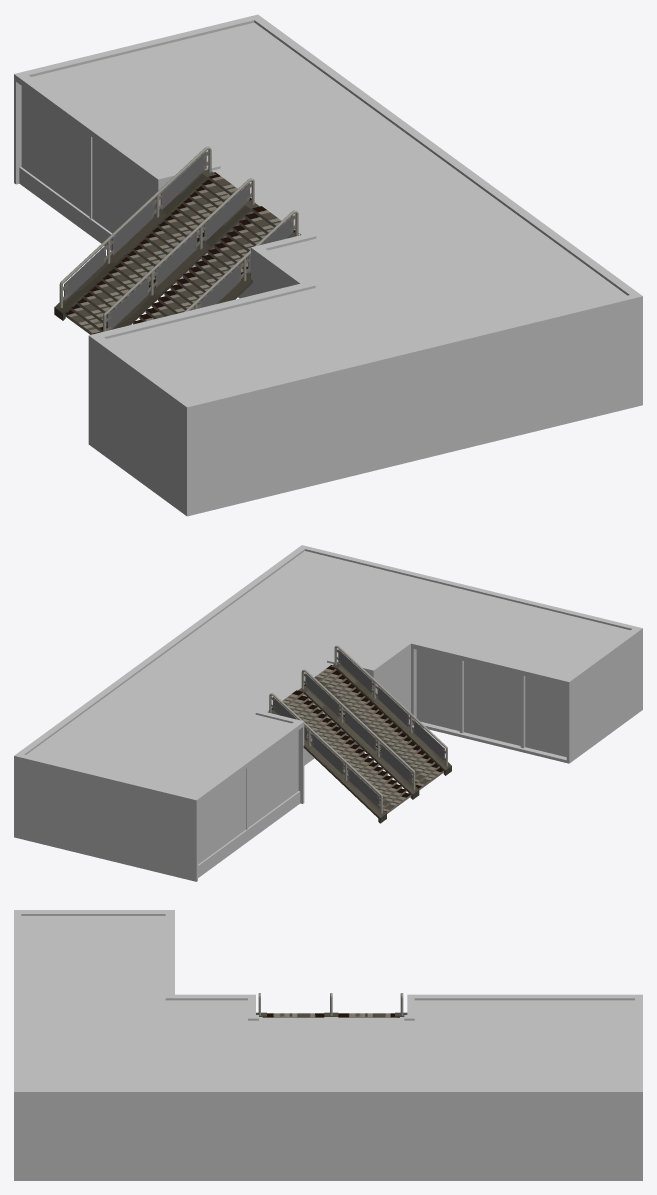
The model's file is cube2stairs.FBX.
3 views of the same model, one above another, from view 1: azimuth 30°, elevation 25°; view 2: azimuth 150°, elevation 25°; view 3: azimuth 270°, elevation 25° (orthographic). The views are drawn at different scales.
Visible parts, largest first — view 1: Cube 2, Stair_Step 25, Stair_Beam 003, Stair_Beam 02, Stair_Beam 004; view 2: Cube 2, Stair_Step 25, Stair_Beam 02, Stair_Beam 004, Stair_Beam 003; view 3: Cube 2, Stair_Step 25.
Boxes of the visible parts, bbox=[...] form: Cube 2: bbox=[14, 14, 642, 516]; Stair_Step 25: bbox=[65, 172, 299, 334]; Stair_Beam 003: bbox=[54, 146, 216, 320]; Stair_Beam 02: bbox=[103, 178, 259, 331]; Stair_Beam 004: bbox=[184, 210, 299, 311]; Cube 2: bbox=[14, 545, 642, 881]; Stair_Step 25: bbox=[268, 665, 443, 813]; Stair_Beam 02: bbox=[298, 669, 419, 799]; Stair_Beam 004: bbox=[331, 645, 451, 775]; Stair_Beam 003: bbox=[268, 693, 386, 823]; Cube 2: bbox=[14, 910, 642, 1180]; Stair_Step 25: bbox=[262, 1013, 399, 1017].
Size of the model in its own units: 19.52 by 5.52 by 28.55.
